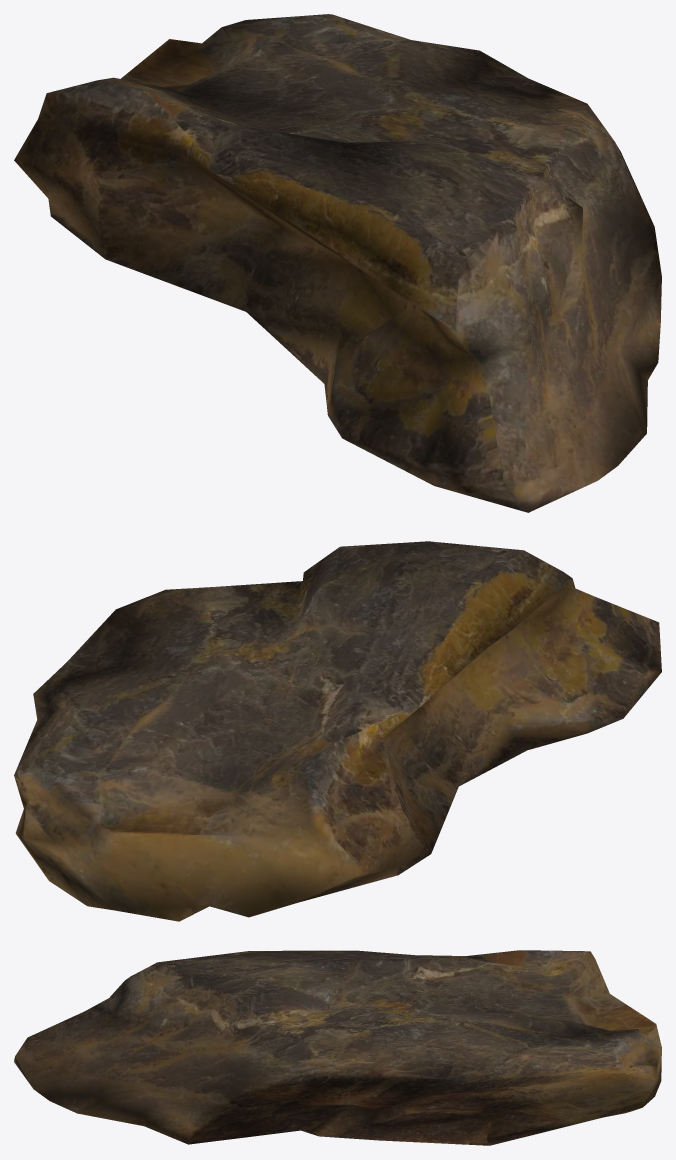
The model's file is rock2.glb.
3 views of the same model, one above another, from view 1: azimuth 30°, elevation 25°; view 2: azimuth 150°, elevation 25°; view 3: azimuth 270°, elevation 25° (orthographic). The views are drawn at different scales.
Visible parts, largest first — view 1: lod1; view 2: lod1; view 3: lod1.
Part boxes in pixels (left/top/right/bottom): lod1: left=14, top=14, right=661, bottom=512; lod1: left=14, top=541, right=661, bottom=921; lod1: left=14, top=950, right=661, bottom=1145.
Bounding box in the file's own units: 1.35 × 0.5832 × 2.61.
Materials: 1 (1 with a texture image).
